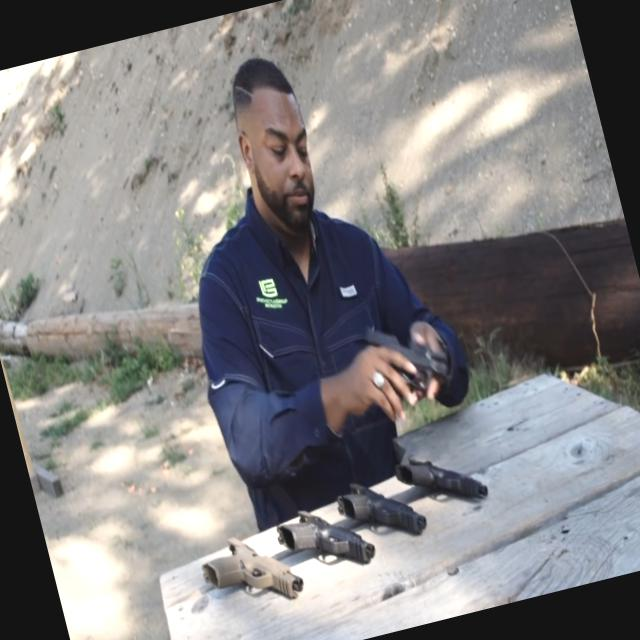handgun: (357, 301, 467, 418), (324, 458, 438, 562), (276, 489, 392, 590), (188, 516, 308, 610), (386, 434, 492, 517)
